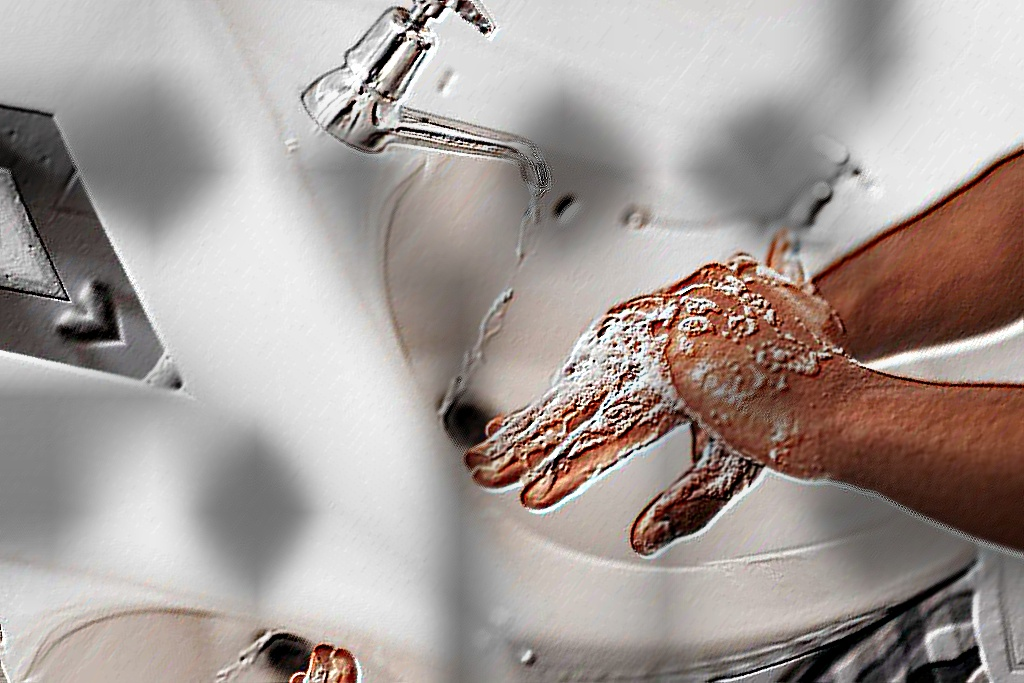washing hand: (147, 0, 1023, 682)
